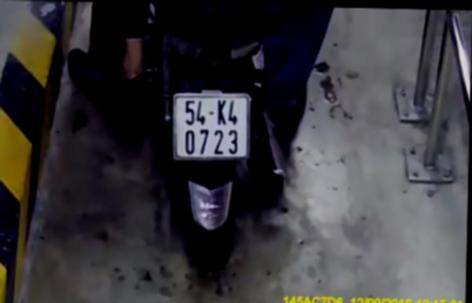License_Plate: (160, 89, 255, 172)
